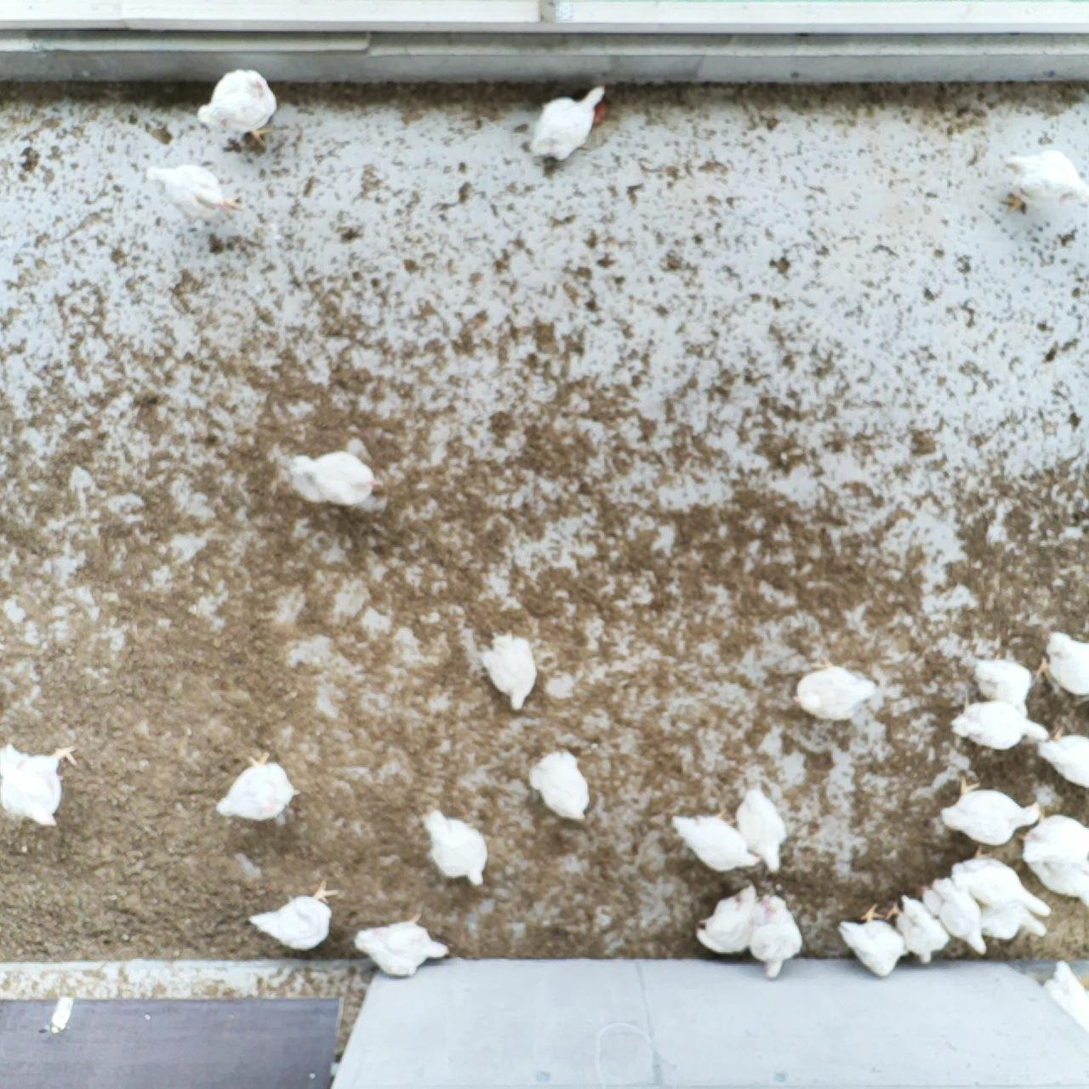chicken: (931, 772, 1046, 843), (1013, 802, 1089, 906), (348, 904, 450, 981), (996, 138, 1089, 220), (283, 438, 385, 512), (784, 650, 881, 726), (0, 740, 80, 830), (524, 80, 610, 162), (962, 842, 1056, 917), (195, 66, 280, 147), (246, 877, 341, 949), (215, 746, 302, 824), (668, 805, 763, 876), (947, 693, 1051, 757), (419, 802, 491, 890), (920, 874, 990, 964), (831, 899, 908, 978), (527, 744, 595, 828), (477, 624, 541, 713), (965, 649, 1052, 714), (693, 882, 764, 961), (747, 891, 808, 981), (891, 891, 950, 972), (1040, 953, 1089, 1047), (1035, 624, 1089, 700), (1030, 721, 1089, 790), (972, 899, 1054, 945)
